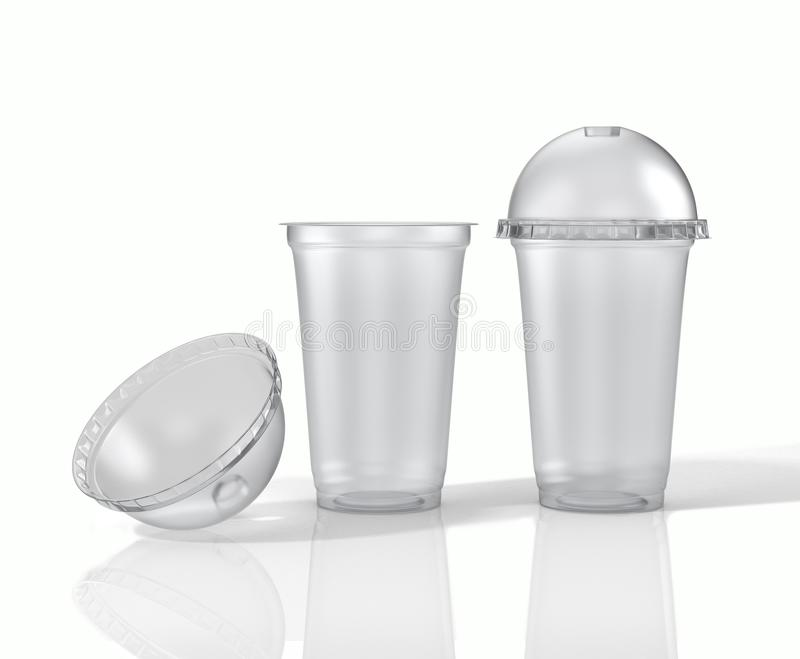plastic_glass: (486, 118, 727, 523), (270, 208, 490, 533)
